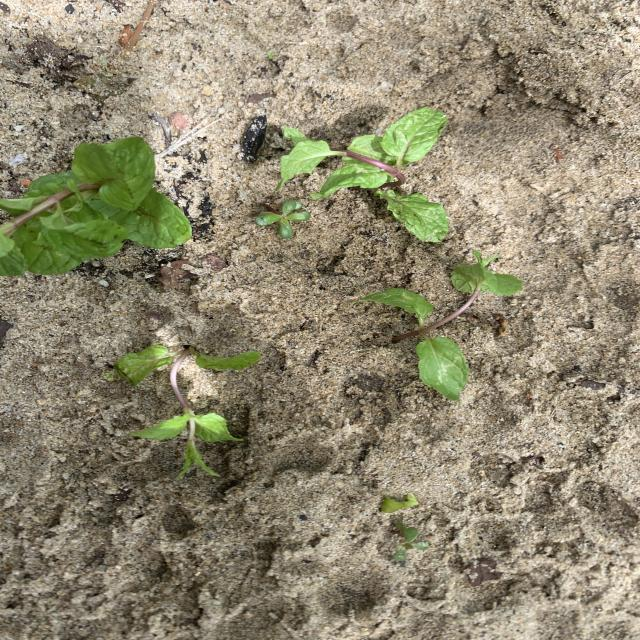crop: (0, 137, 191, 276), (362, 250, 522, 401), (276, 107, 448, 242), (114, 345, 262, 480)
weed: (255, 200, 310, 238), (390, 523, 429, 563)
